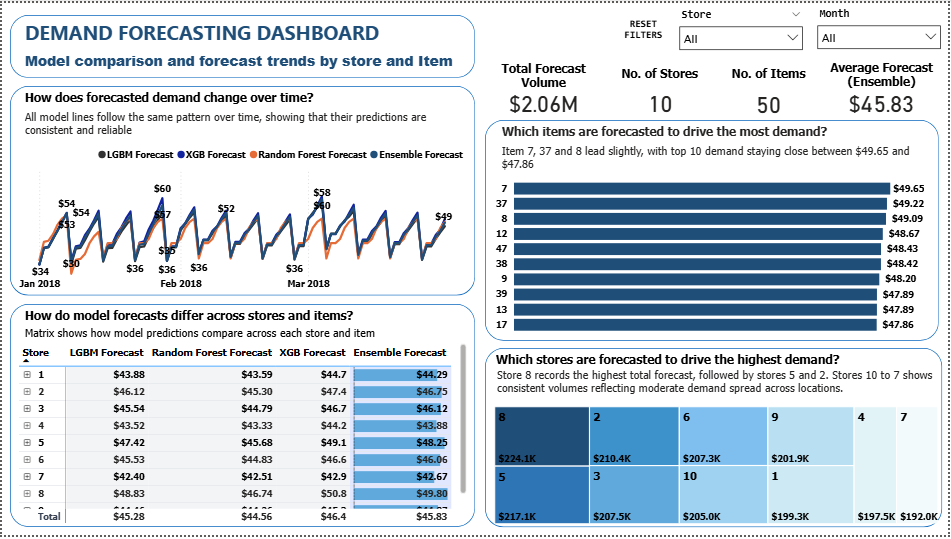

The page's visual inventory and layout, read from the dashboard file:
{"tool":"powerbi","page":{"name":"OVERVIEW","canvas":[1280,720],"ordinal":0},"visuals":[{"type":"shape","box":[10.8,16.2,629.3,85.3],"z":0},{"type":"shape","box":[10.6,112.2,629.4,283.6],"z":1000},{"type":"shape","box":[653.6,157.7,614.2,298.8],"z":2000},{"type":"shape","box":[10.6,408,629.4,301.8],"z":3000},{"type":"shape","box":[653.6,467.1,618.8,242.7],"z":4000},{"type":"textbox","box":[25.8,16.7,502,56.1],"z":5000},{"type":"textbox","box":[25.8,59.1,600.6,42.5],"z":6000},{"type":"lineChart","fields":{"Category":["forecast_clean.date.Variation.Date Hierarchy.Year","forecast_clean.date.Variation.Date Hierarchy.Quarter","forecast_clean.date.Variation.Date Hierarchy.Month","forecast_clean.date.Variation.Date Hierarchy.Day"],"Y":["_Measures.avg_LGBM_forecast","_Measures.avg_XGB_forecast","_Measures.avg_rf_forecast","_Measures.avg_forecast(ensemble)"]},"box":[18.2,185,615.7,210.8],"z":7000},{"type":"PBI_CV_7B952816_A48F_49B4_9E13_15E3BB2C0337","fields":{"Values":["_Measures.total_forecast(ensemble)"]},"box":[653.6,107.7,157.7,53.1],"z":8000},{"type":"treemap","fields":{"Values":["_Measures.total_forecast(ensemble)"],"Group":["forecast_clean.store"]},"box":[661.2,541.4,609.7,168.3],"z":9000},{"type":"pivotTable","fields":{"Rows":["forecast_clean.store","forecast_clean.item"],"Values":["_Measures.avg_LGBM_forecast","_Measures.avg_rf_forecast","_Measures.avg_XGB_forecast","_Measures.avg_forecast(ensemble)"]},"box":[18.2,456.5,615.7,253.3],"z":10000},{"type":"PBI_CV_7B952816_A48F_49B4_9E13_15E3BB2C0337","fields":{"Values":["_Measures.no_of_stores"]},"box":[841.7,107.7,97.1,53.1],"z":11000},{"type":"PBI_CV_7B952816_A48F_49B4_9E13_15E3BB2C0337","fields":{"Values":["_Measures.no_of_items"]},"box":[991.8,109.2,89.5,51.6],"z":12000},{"type":"PBI_CV_7B952816_A48F_49B4_9E13_15E3BB2C0337","fields":{"Values":["_Measures.avg_forecast(ensemble)"]},"box":[1128.3,107.7,122.8,53.1],"z":13000},{"type":"textbox","box":[662.7,72.8,139.5,62.2],"z":14000},{"type":"textbox","box":[820.5,80.4,139.5,31.8],"z":15000},{"type":"textbox","box":[967.6,80.4,139.5,31.8],"z":16000},{"type":"textbox","box":[1108.4,71.7,163.8,60.9],"z":17000},{"type":"slicer","fields":{"Values":["forecast_clean.date.Variation.Date Hierarchy.Month"]},"box":[1093.5,1.5,186.5,68.2],"z":18000},{"type":"slicer","fields":{"Values":["forecast_clean.store"]},"box":[906.9,3,186.5,66.7],"z":19000},{"type":"actionButton","box":[820.5,15.2,95.5,42.5],"z":20000},{"type":"textbox","box":[25.8,112.2,421.6,40.9],"z":21000},{"type":"textbox","box":[25.8,139.5,600.6,57.6],"z":22000},{"type":"textbox","box":[662.7,467.1,590,40.9],"z":23000},{"type":"textbox","box":[664.3,488.3,603.6,53.1],"z":24000},{"type":"clusteredBarChart","fields":{"Y":["_Measures.avg_forecast(ensemble)"],"Category":["forecast_clean.item"]},"box":[661.2,221.4,591.5,235.1],"z":25000},{"type":"textbox","box":[25.8,408,494.4,40.9],"z":26000},{"type":"textbox","box":[25.8,432.2,585.4,40.9],"z":27000},{"type":"textbox","box":[671.8,157.7,585.4,39.4],"z":27001},{"type":"textbox","box":[671.8,185,600.6,50],"z":27002}]}

Visuals, with their boxes in screenshot pixels (x1, y1, x2, y2), scaled from the page's 1280x720 canvas onto the 951x539 screenshot:
shape: bbox(8, 12, 476, 76)
shape: bbox(8, 84, 476, 296)
shape: bbox(486, 118, 942, 342)
shape: bbox(8, 305, 476, 531)
shape: bbox(486, 350, 945, 531)
textbox: bbox(19, 13, 392, 54)
textbox: bbox(19, 44, 465, 76)
lineChart - forecast_clean.date.Variation.Date Hierarchy.Year x forecast_clean.date.Variation.Date Hierarchy.Quarter: bbox(14, 138, 471, 296)
PBI_CV_7B952816_A48F_49B4_9E13_15E3BB2C0337 - _Measures.total_forecast(ensemble): bbox(486, 81, 603, 120)
treemap - _Measures.total_forecast(ensemble) x forecast_clean.store: bbox(491, 405, 944, 531)
pivotTable - forecast_clean.store x forecast_clean.item: bbox(14, 342, 471, 531)
PBI_CV_7B952816_A48F_49B4_9E13_15E3BB2C0337 - _Measures.no_of_stores: bbox(625, 81, 697, 120)
PBI_CV_7B952816_A48F_49B4_9E13_15E3BB2C0337 - _Measures.no_of_items: bbox(737, 82, 803, 120)
PBI_CV_7B952816_A48F_49B4_9E13_15E3BB2C0337 - _Measures.avg_forecast(ensemble): bbox(838, 81, 930, 120)
textbox: bbox(492, 54, 596, 101)
textbox: bbox(610, 60, 713, 84)
textbox: bbox(719, 60, 823, 84)
textbox: bbox(824, 54, 945, 99)
slicer - forecast_clean.date.Variation.Date Hierarchy.Month: bbox(812, 1, 950, 52)
slicer - forecast_clean.store: bbox(674, 2, 812, 52)
actionButton: bbox(610, 11, 681, 43)
textbox: bbox(19, 84, 332, 115)
textbox: bbox(19, 104, 465, 148)
textbox: bbox(492, 350, 931, 380)
textbox: bbox(494, 366, 942, 405)
clusteredBarChart - _Measures.avg_forecast(ensemble) x forecast_clean.item: bbox(491, 166, 931, 342)
textbox: bbox(19, 305, 386, 336)
textbox: bbox(19, 324, 454, 354)
textbox: bbox(499, 118, 934, 148)
textbox: bbox(499, 138, 945, 176)
